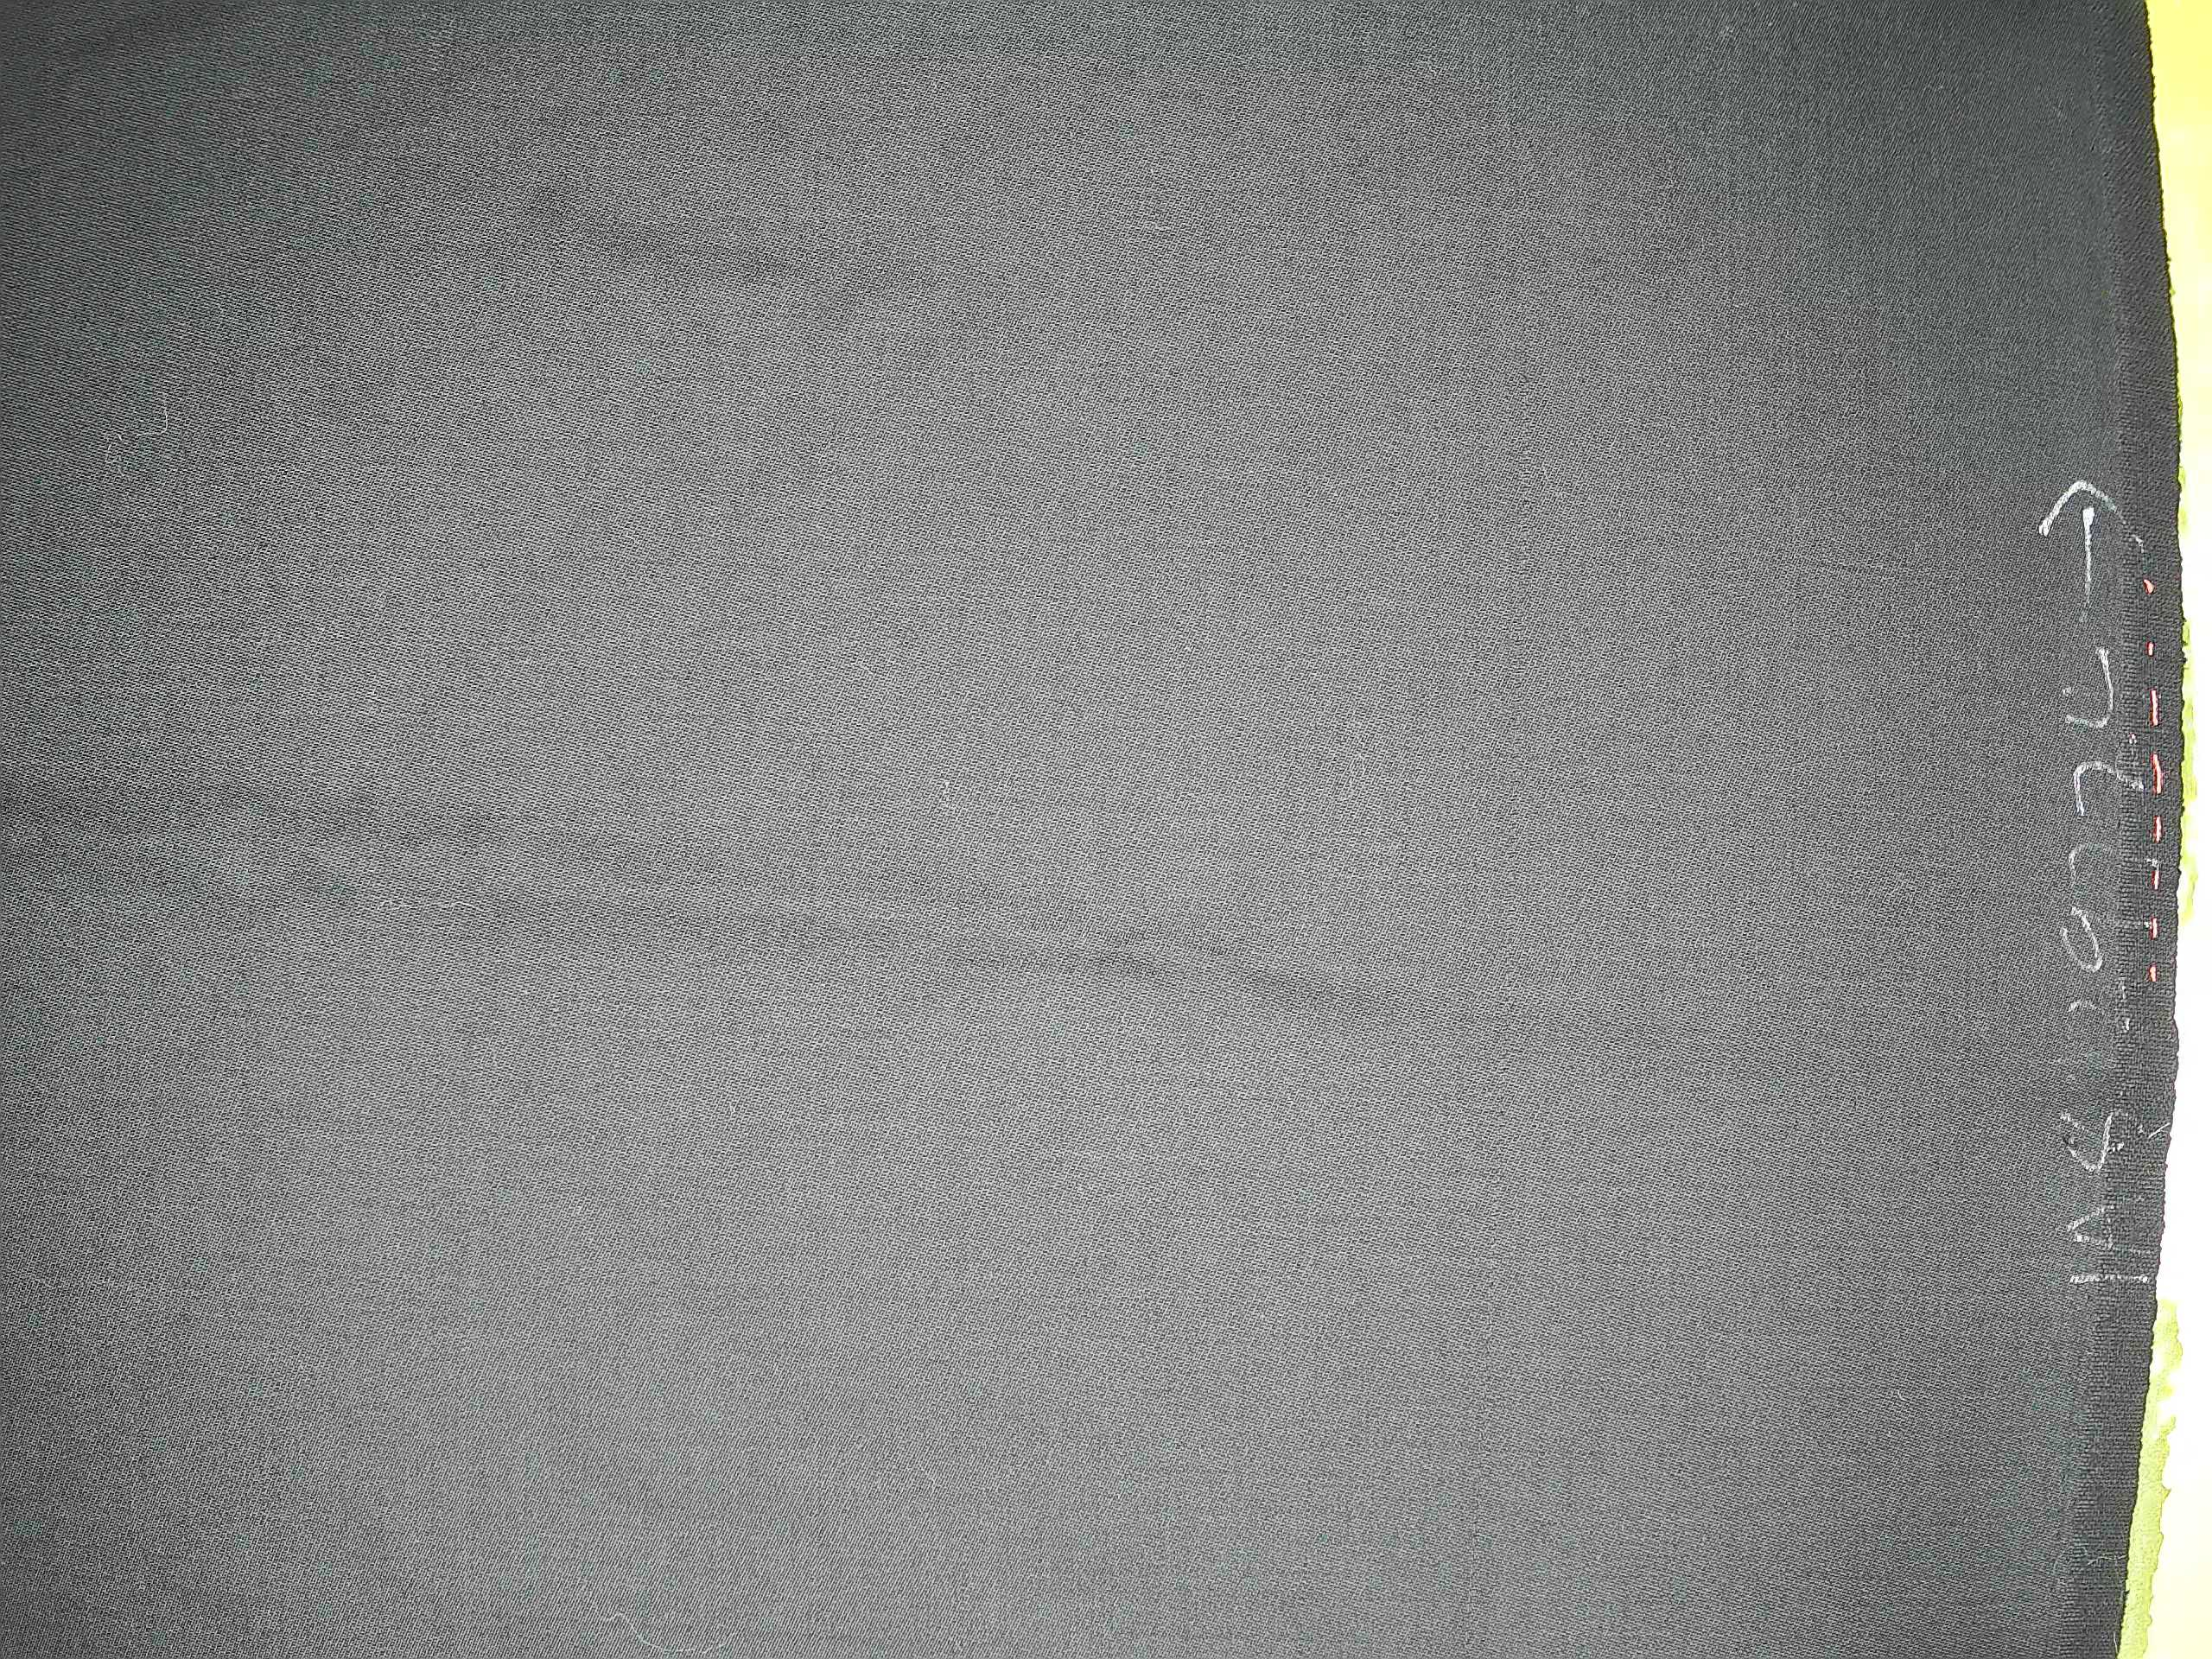jumps: (1465, 779, 1517, 1439)
